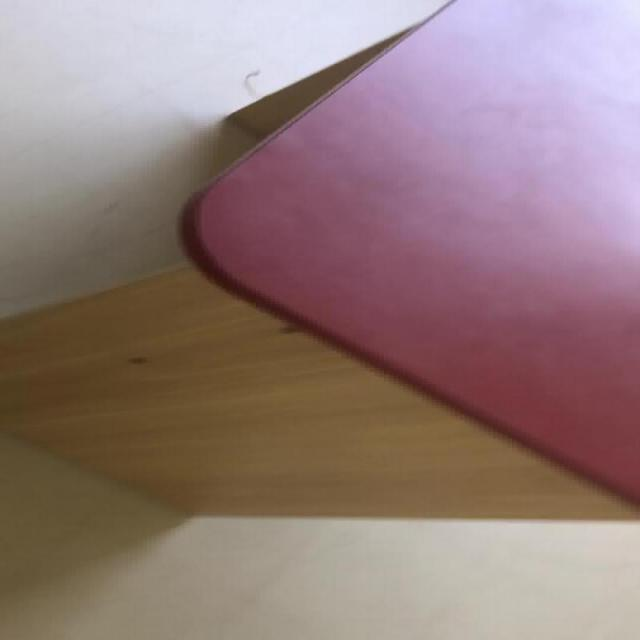Sponge: (2, 0, 637, 521), (177, 0, 638, 510)
